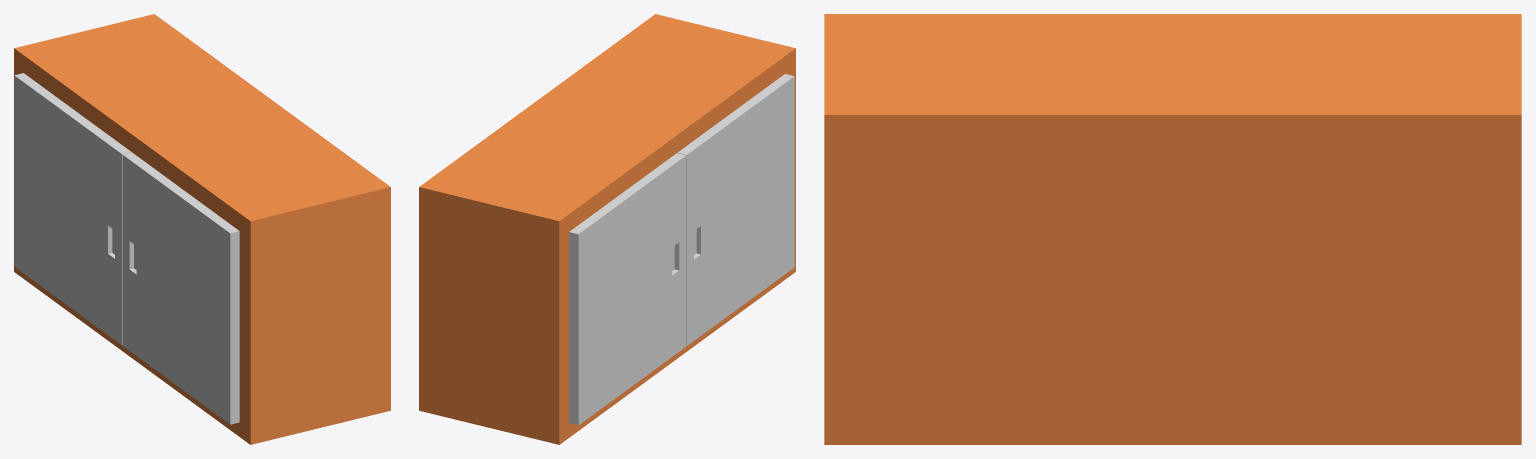
File: Armario pared.fbx
The picture shows the model from 3 angles, left to right: view 1: azimuth 30°, elevation 25°; view 2: azimuth 150°, elevation 25°; view 3: azimuth 270°, elevation 25°; orthographic projection. The views are drawn at different scales.
Parts seen in each view (by area): view 1: Cube.022; view 2: Cube.022; view 3: Cube.022.
Part boxes in pixels (x1,y1,x2,y2): Cube.022: (14,14,390,444); Cube.022: (419,14,795,444); Cube.022: (824,14,1521,444).
Bounding box in the file's own units: 5.64 × 8.05 × 15.41.
